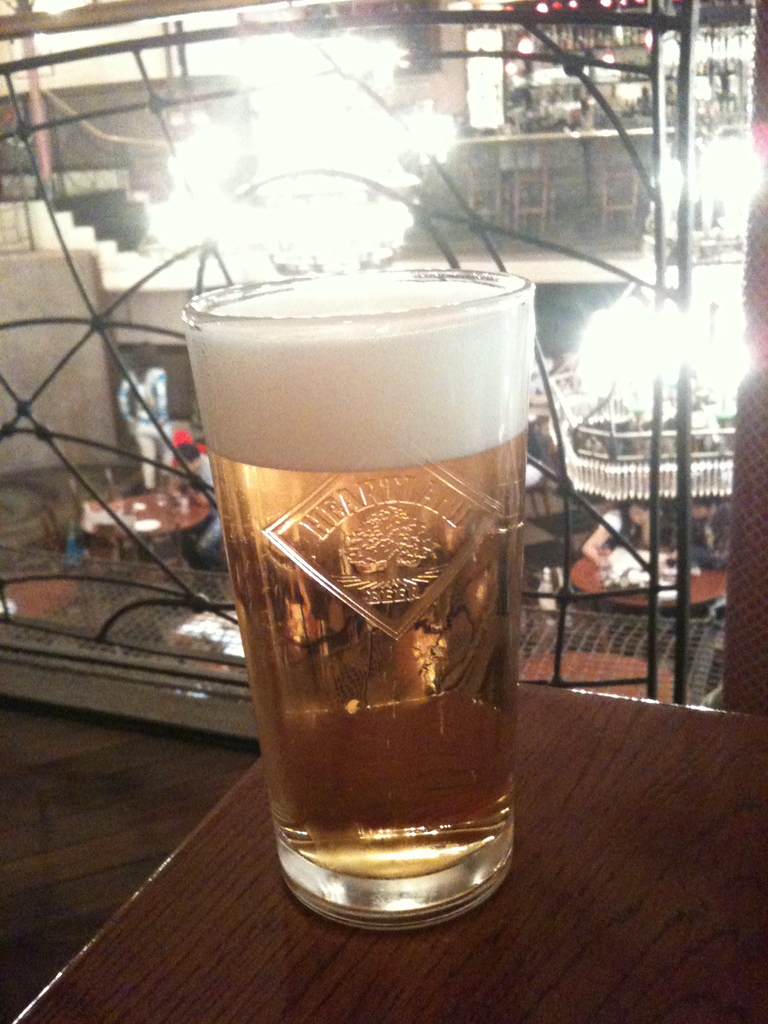Beer: (177, 253, 538, 915)
